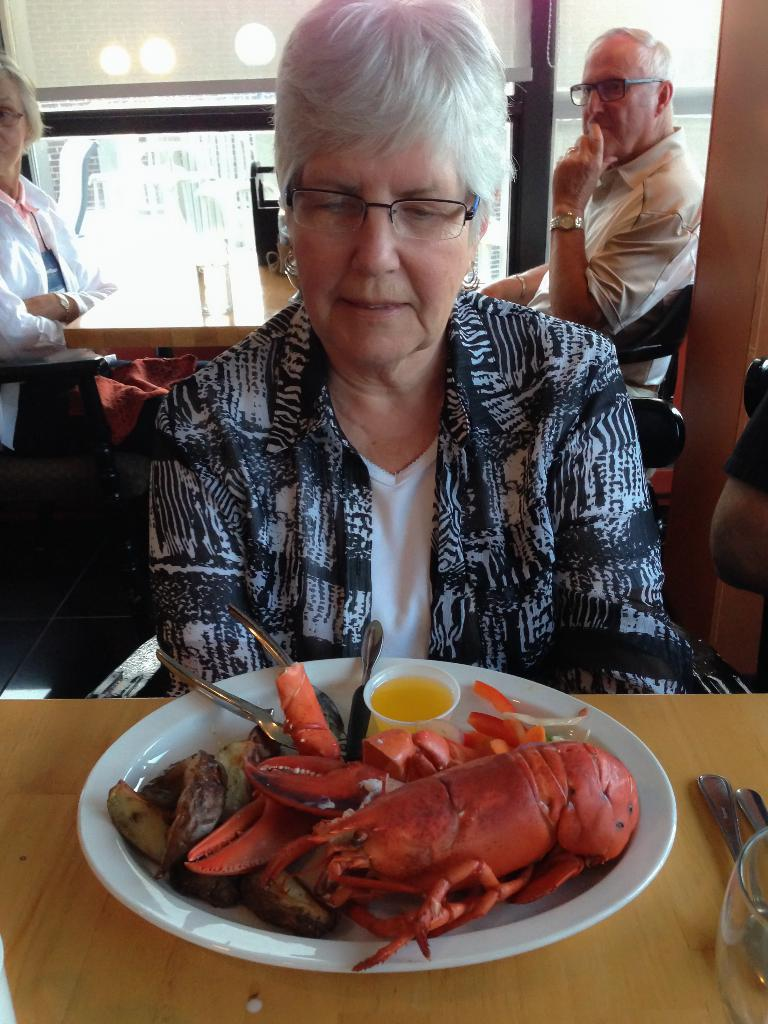Lobster: (258, 739, 644, 979)
